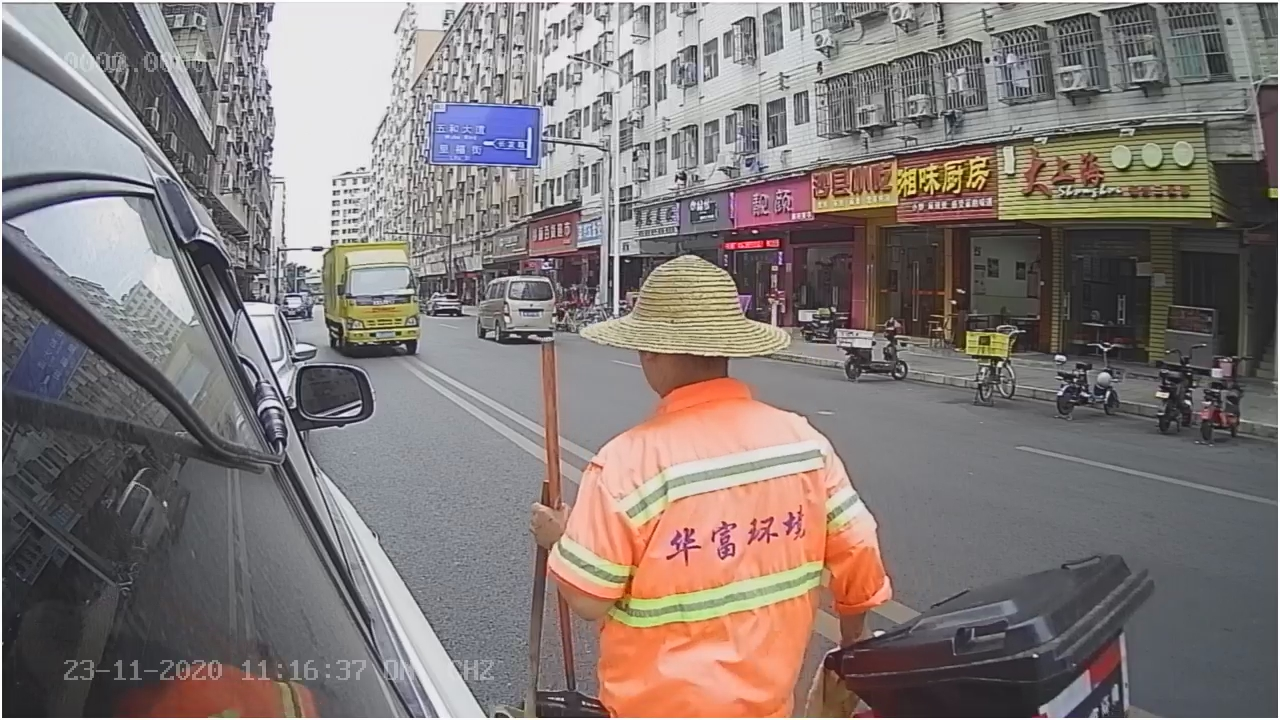person: (563, 247, 897, 625)
